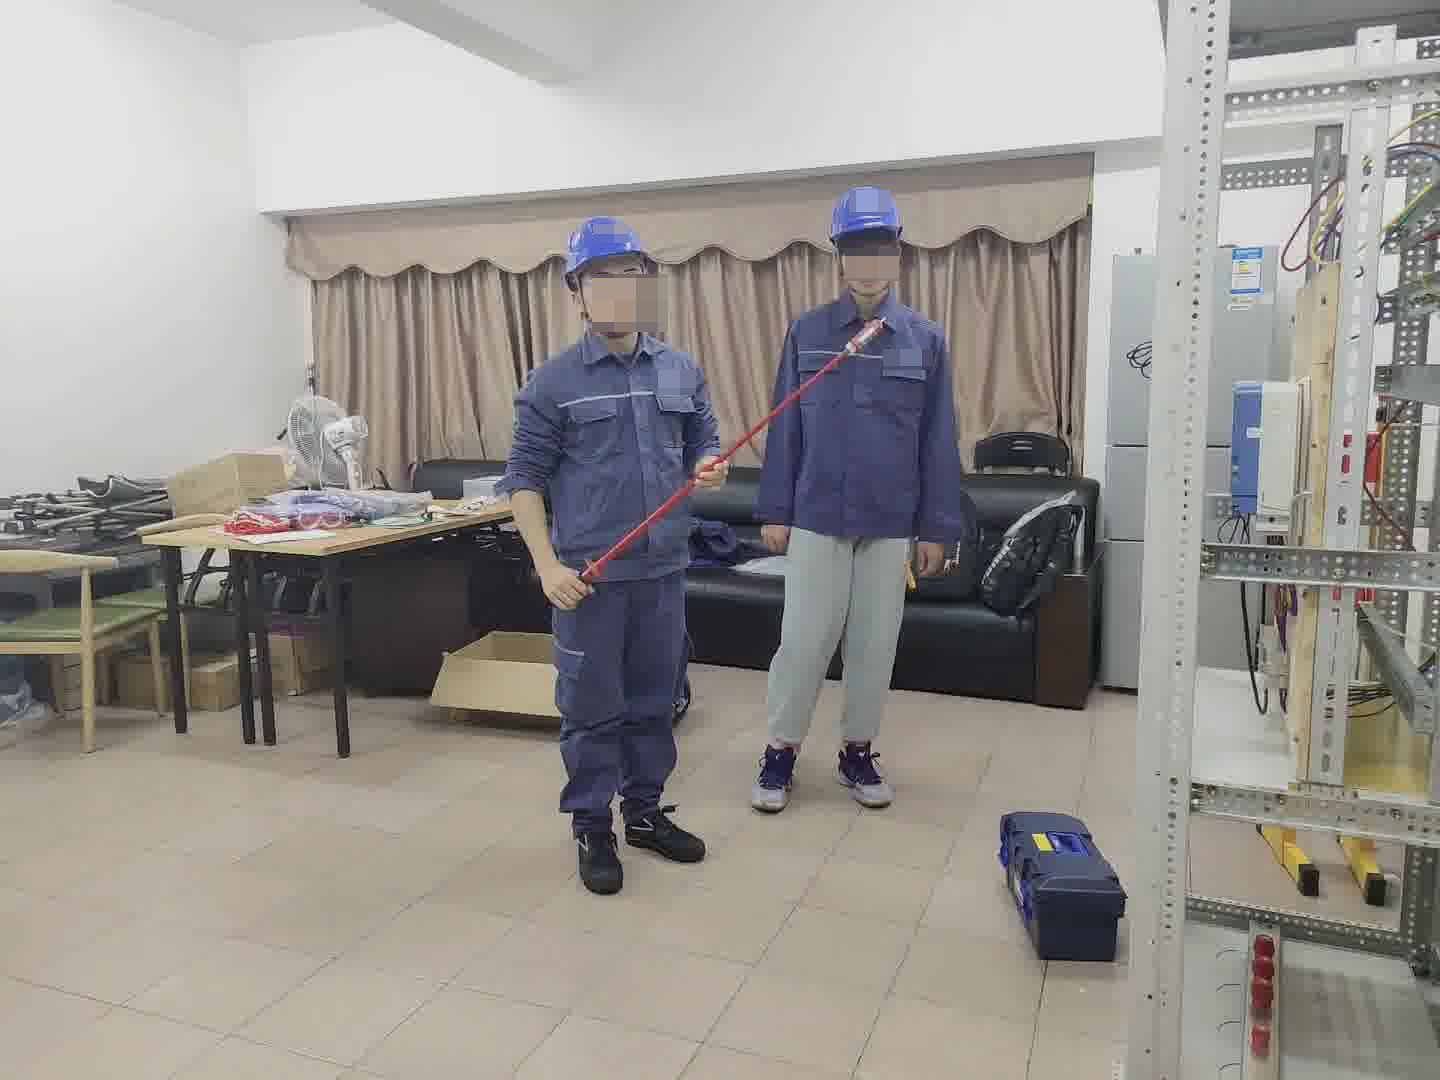downcloth: (768, 525, 915, 758)
downsuit: (553, 588, 694, 828)
halt: (557, 214, 659, 334), (829, 186, 909, 285)
hand: (537, 565, 590, 608), (910, 532, 950, 575), (753, 517, 788, 548), (698, 452, 727, 488)
inear: (562, 280, 597, 318)
person: (501, 213, 730, 883), (747, 184, 972, 814)
testrod: (582, 318, 885, 575)
upsuit: (503, 331, 727, 579), (752, 295, 972, 546)
wronghold: (577, 438, 739, 580)
wrongtop: (507, 425, 558, 563), (683, 400, 720, 460)
